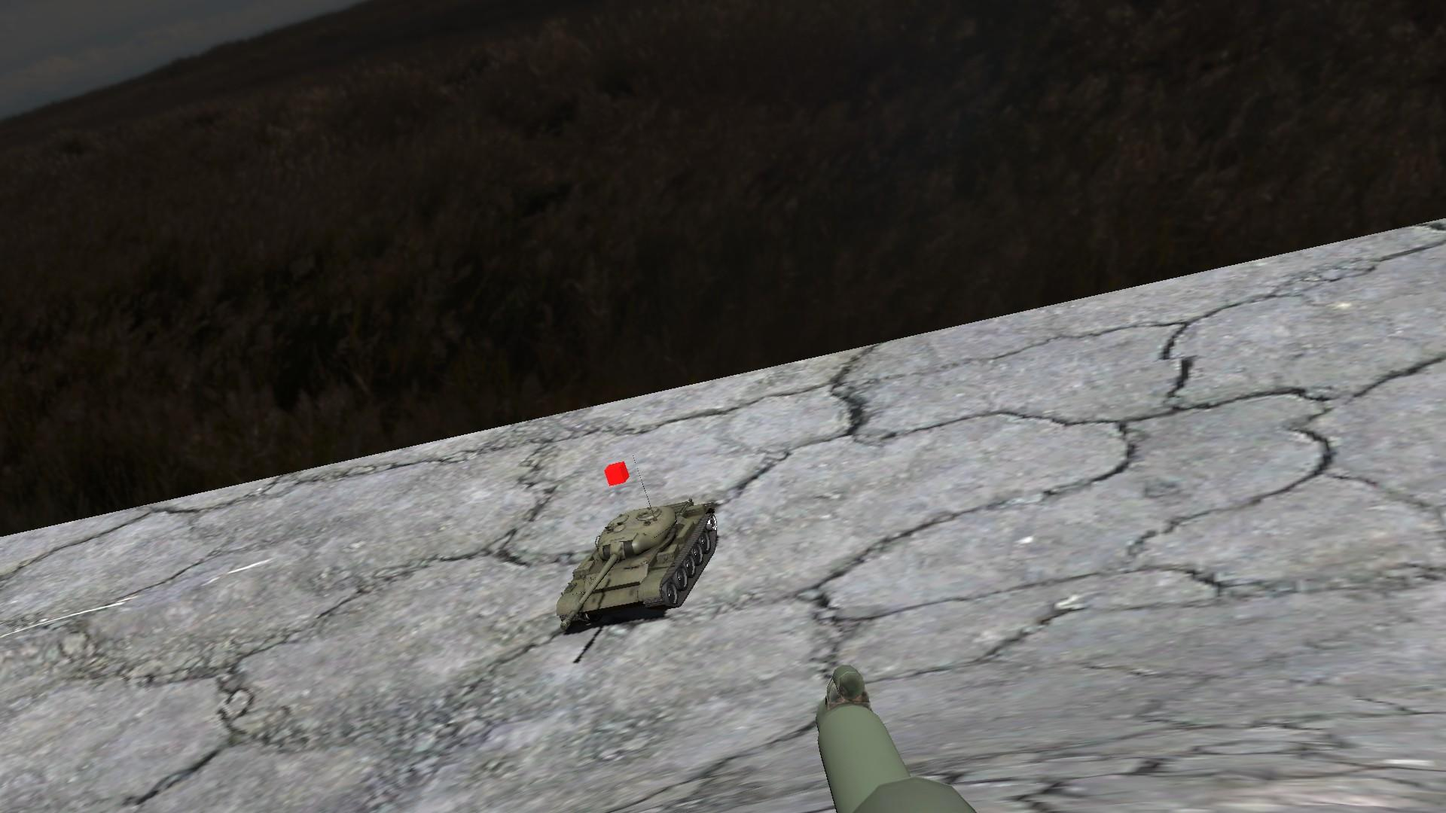Tank: (550, 494, 725, 643)
